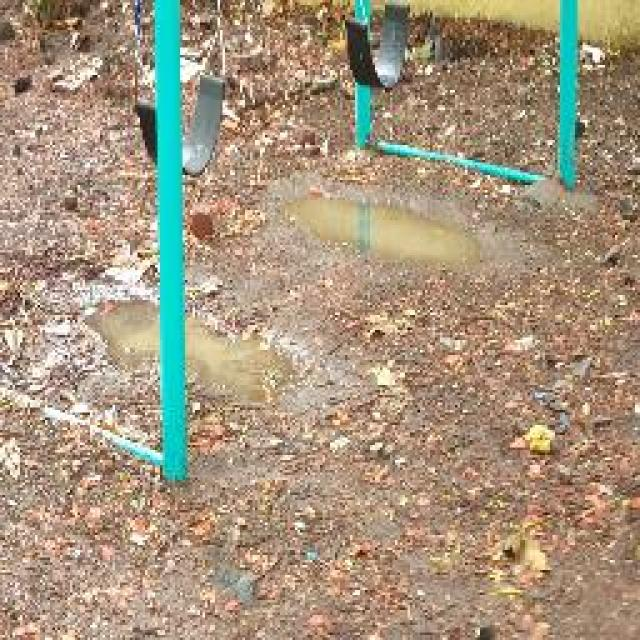puddle: (291, 196, 481, 269)
